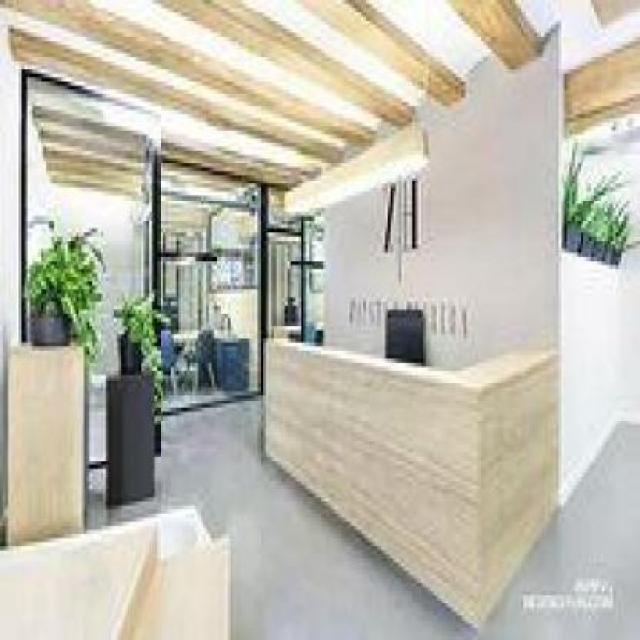frontdesk: (254, 322, 565, 633)
